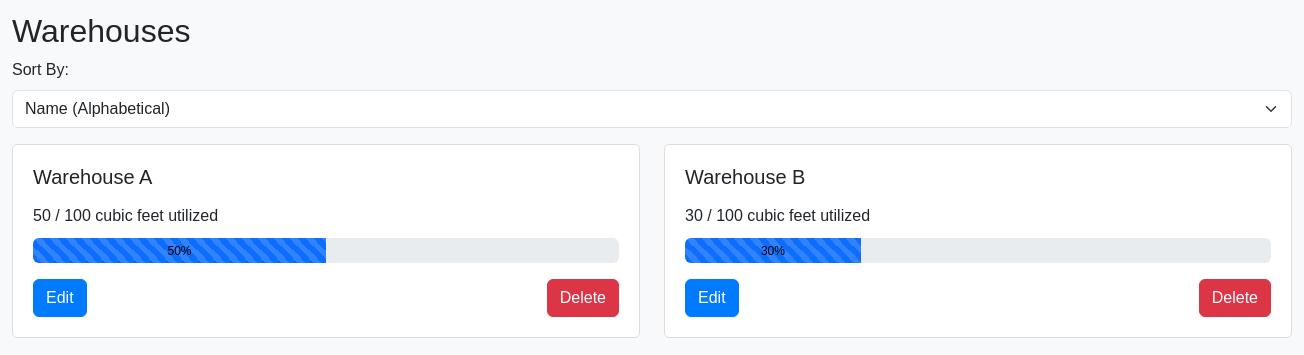
Test: WarehouseList › should delete a warehouse
Expected: the heading "Warehouse A" is shown, [33,166,152,188]
Expected: the heading "Warehouse B" is shown, [685,166,805,188]
// Find the delete button for the first warehouse
What coordinates should you click on to do the following:
click the 1st button "Delete"
I would click on:
 (583, 298)
Its box is [547,279,619,317].
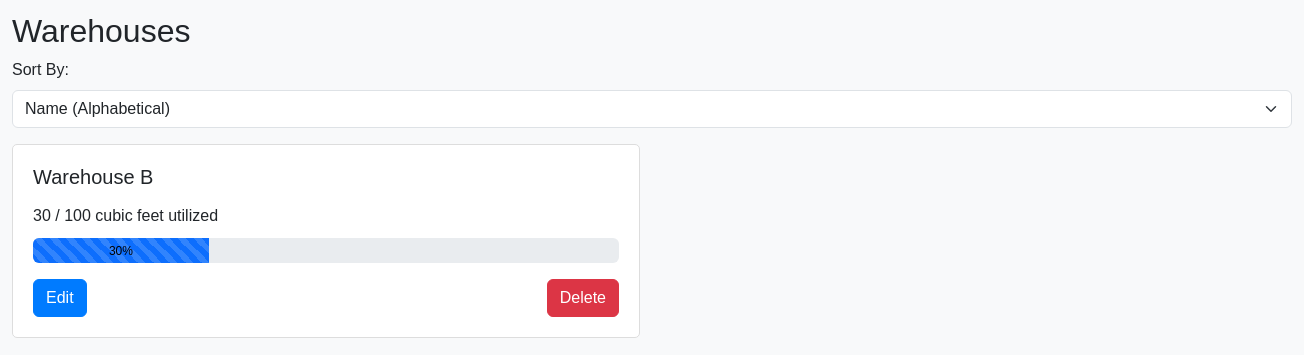
Now the heading "Warehouse A" is gone
